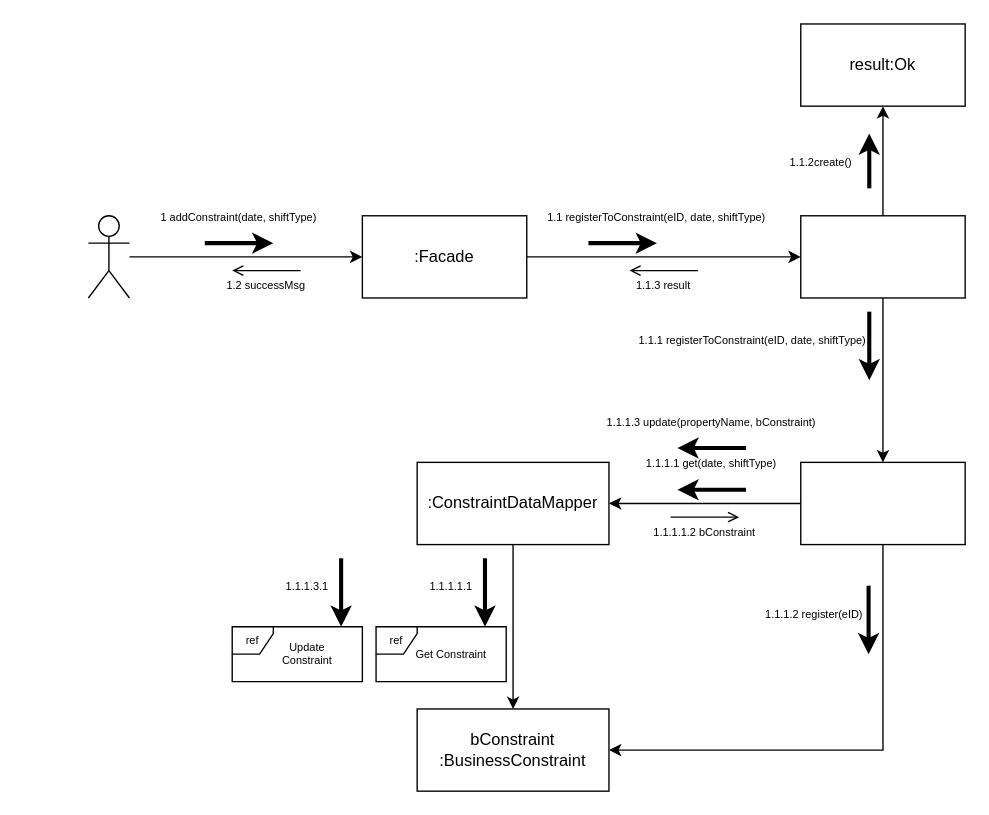
This 989x815 diagram has some shape labels left out. The shapes that lost their labels are listed below. From the top down, each one's centre as x and y in pixels, then its label:
the point at 108,256: HR Manager/Employee
the point at 882,256: :ConstraintService
the point at 882,503: :ConstraintController
